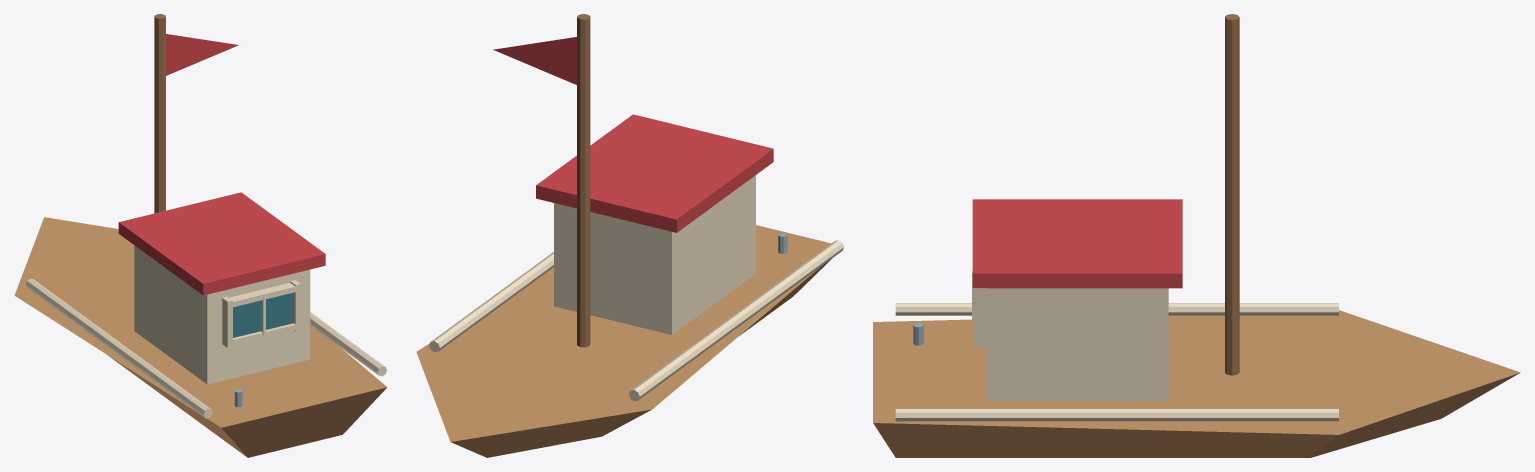
Rendered from Boat.fbx.
The picture shows the model from 3 angles, left to right: view 1: azimuth 30°, elevation 25°; view 2: azimuth 150°, elevation 25°; view 3: azimuth 270°, elevation 25°; orthographic projection. The views are drawn at different scales.
Visible parts, largest first — view 1: Boat_RenderMesh; view 2: Boat_RenderMesh; view 3: Boat_RenderMesh.
Boxes of the visible parts, x1=… form: Boat_RenderMesh: x1=14, y1=14, x2=387, y2=457; Boat_RenderMesh: x1=416, y1=14, x2=843, y2=457; Boat_RenderMesh: x1=873, y1=14, x2=1520, y2=457.
Size of the model in its own units: 2.6 by 4 by 5.7.
